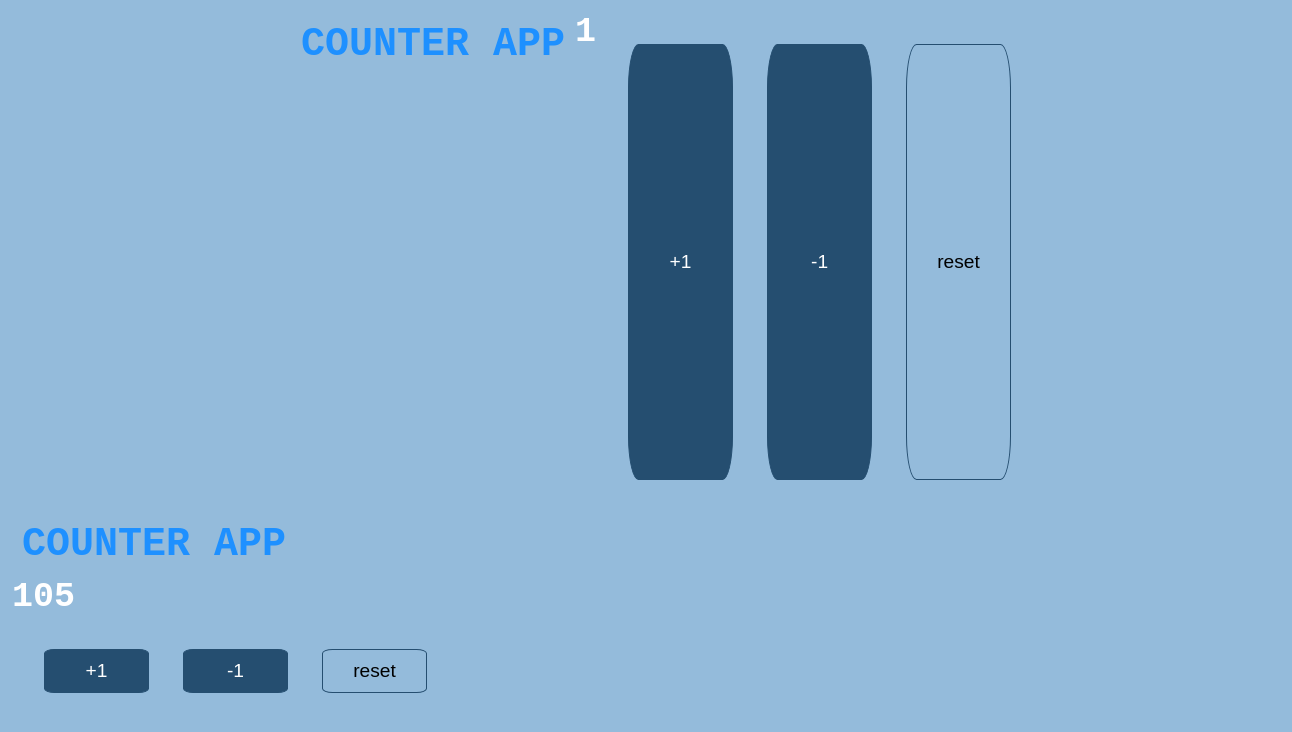
Analizando valores del componente <CounterApp /> › debe de colocar el valor por defecto con el boton de reset
Click the button "+1" below "105" at (96,671), box [44,649,149,693]
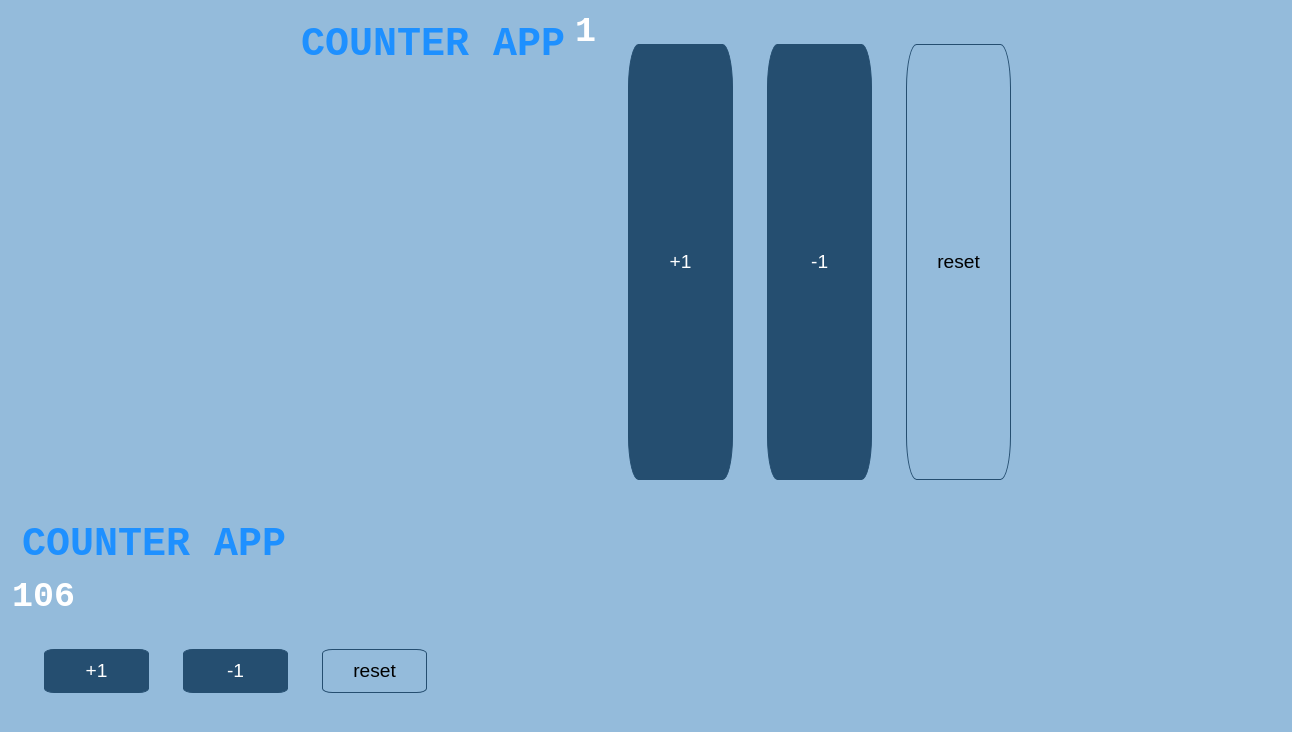
Click the button "+1" below "106" at (96,671), box [44,649,149,693]
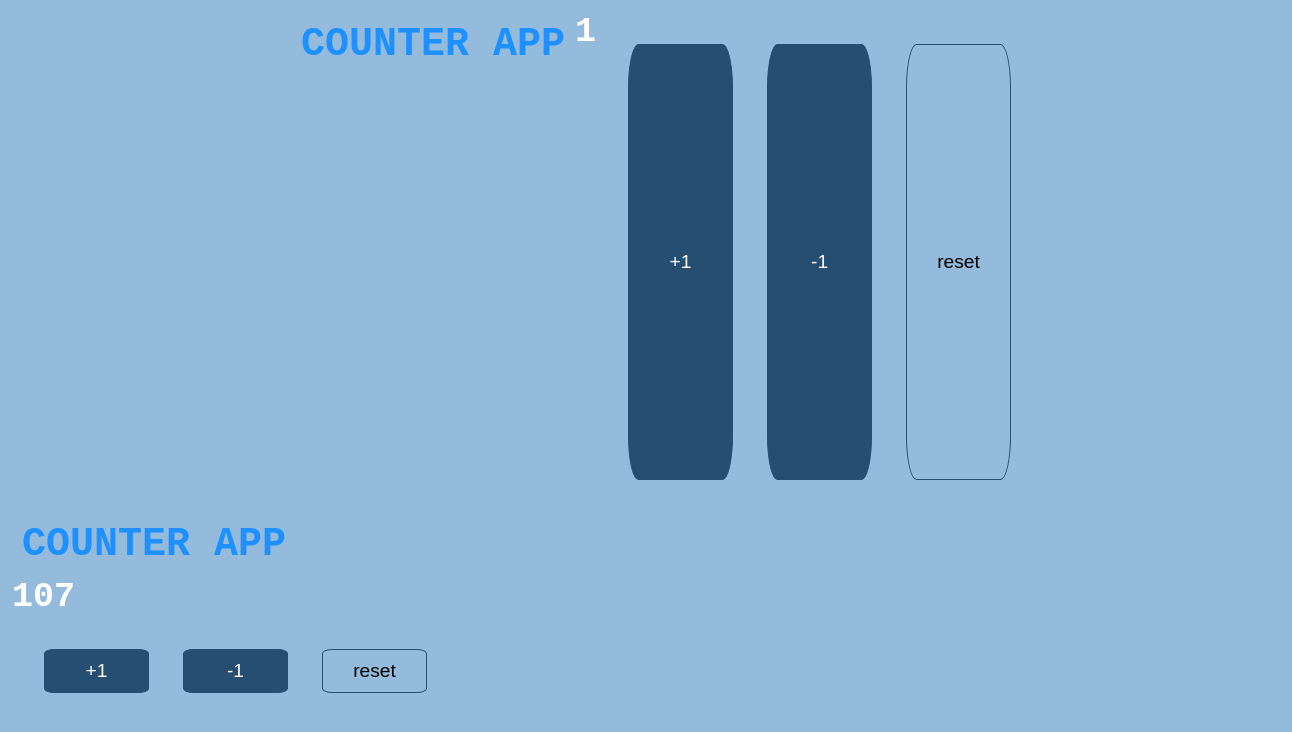
Click the button with class "button_reset" below "107" at (374,671), box [322,649,427,693]
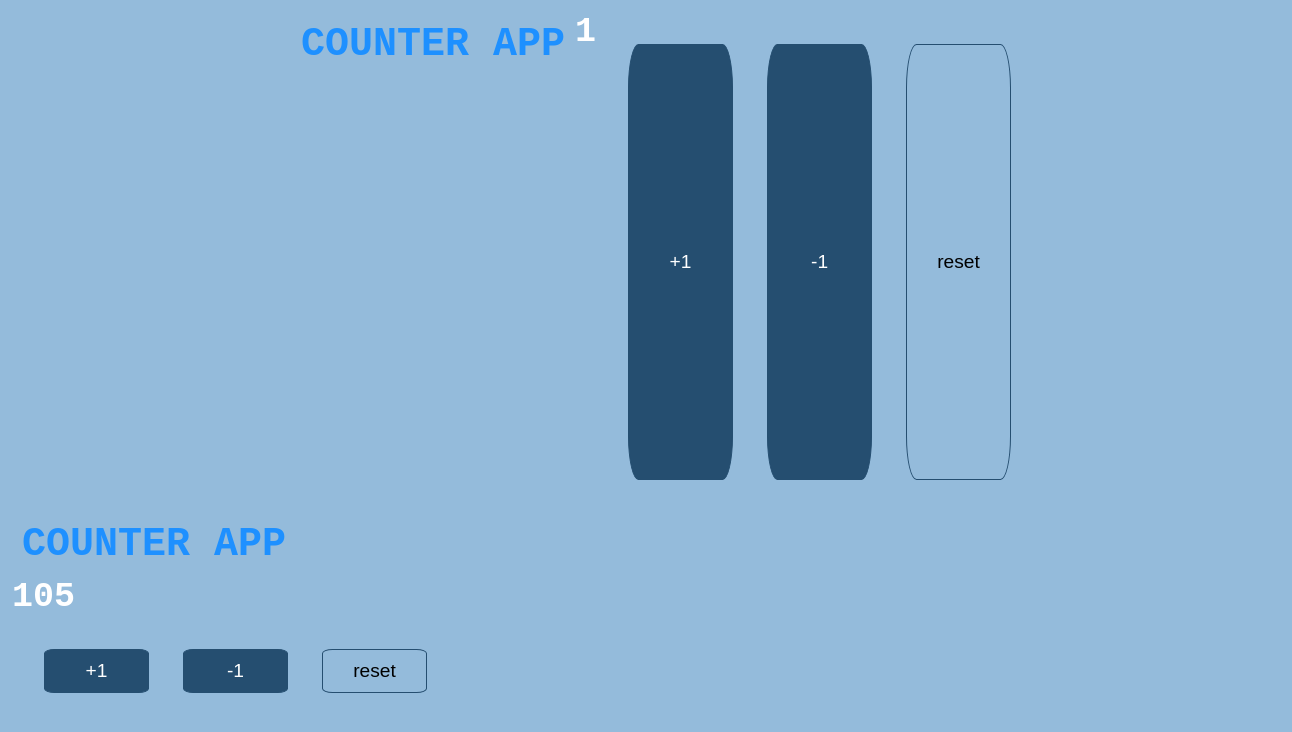
Now the heading "105" is shown, box [12,577,75,617]
